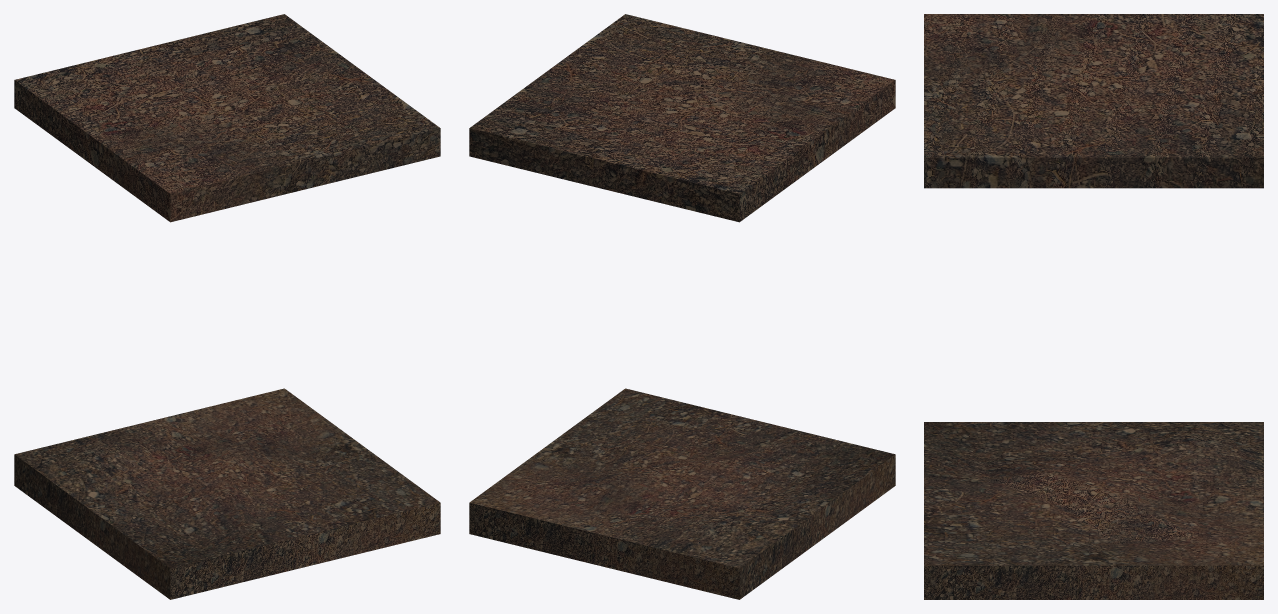
Rendered from EarthSea.glb.
The picture shows the model from 3 angles, left to right: view 1: azimuth 30°, elevation 25°; view 2: azimuth 150°, elevation 25°; view 3: azimuth 270°, elevation 25°; orthographic projection. The views are drawn at different scales.
Visible parts, largest first — view 1: Cube; view 2: Cube; view 3: Cube.
Part boxes in pixels (x1,y1,x2,y2): Cube: (14,14,440,599); Cube: (469,14,895,599); Cube: (924,14,1263,599).
Bounding box in the file's own units: 2 × 2.87 × 2.
1 material, 1 textured.
